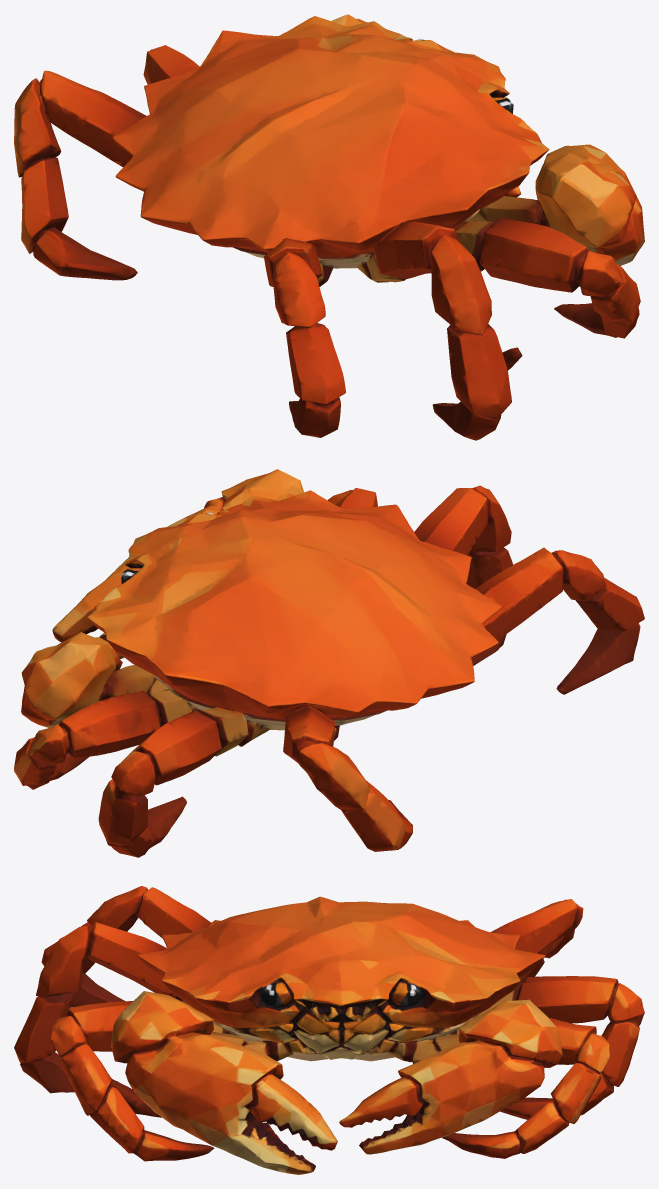
File: jaibaroja.glb
3 views of the same model, one above another, from view 1: azimuth 30°, elevation 25°; view 2: azimuth 150°, elevation 25°; view 3: azimuth 270°, elevation 25° (orthographic). The views are drawn at different scales.
Parts seen in each view (by area): view 1: tripo_node_fb460f2b-121a-499f-bfa2-354d63448861; view 2: tripo_node_fb460f2b-121a-499f-bfa2-354d63448861; view 3: tripo_node_fb460f2b-121a-499f-bfa2-354d63448861.
Part boxes in pixels (x1=…): tripo_node_fb460f2b-121a-499f-bfa2-354d63448861: x1=14, y1=14, x2=644, y2=440; tripo_node_fb460f2b-121a-499f-bfa2-354d63448861: x1=14, y1=469, x2=644, y2=857; tripo_node_fb460f2b-121a-499f-bfa2-354d63448861: x1=14, y1=886, x2=644, y2=1174.
Size of the model in its own units: 0.7179 by 0.352 by 1.
1 material, 1 textured.
